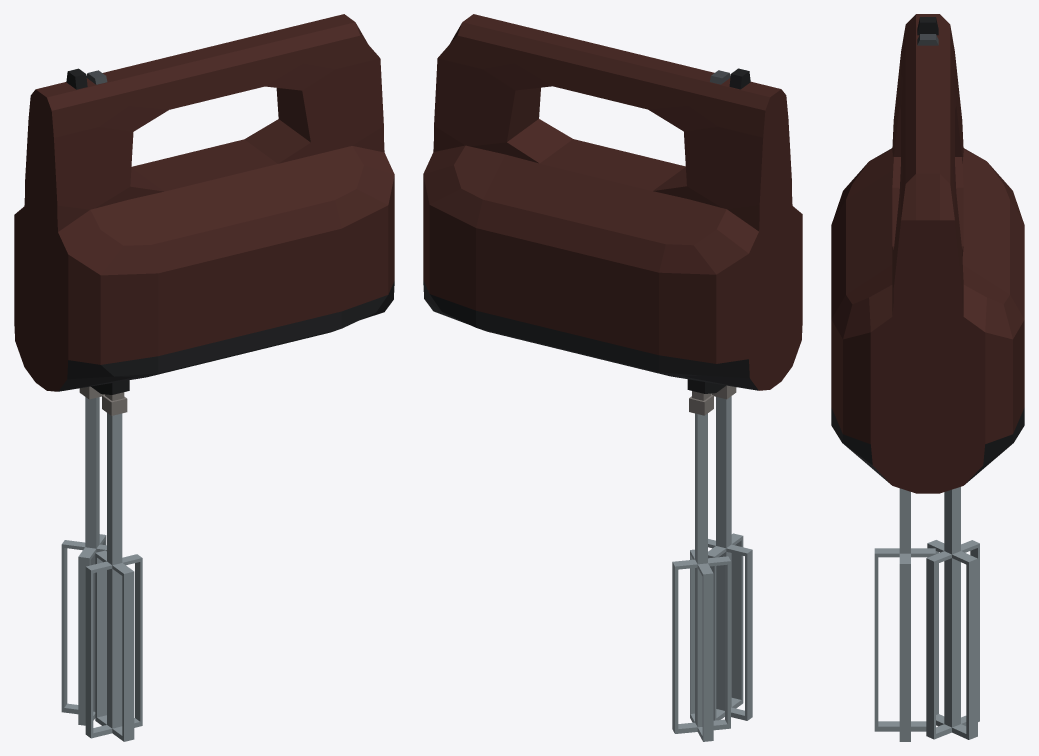
File: electricmixers_01_C.gltf
3 renders of one model, left to right at view 1: azimuth 30°, elevation 25°; view 2: azimuth 150°, elevation 25°; view 3: azimuth 270°, elevation 25°, orthographic. The views are drawn at different scales.
Parts seen in each view (by area): view 1: electricmixers_01_C, mixerdevice_01_C, mixerdevice_02_C; view 2: electricmixers_01_C, mixerdevice_02_C, mixerdevice_01_C; view 3: electricmixers_01_C, mixerdevice_02_C, mixerdevice_01_C, buttonforelectricmixers_02_C.
Boxes of the visible parts, x1=… form: electricmixers_01_C: x1=14, y1=14, x2=394, y2=415; mixerdevice_01_C: x1=85, y1=413, x2=142, y2=741; mixerdevice_02_C: x1=61, y1=397, x2=106, y2=725; electricmixers_01_C: x1=423, y1=14, x2=802, y2=415; mixerdevice_02_C: x1=672, y1=413, x2=730, y2=741; mixerdevice_01_C: x1=708, y1=396, x2=752, y2=720; electricmixers_01_C: x1=831, y1=14, x2=1024, y2=493; mixerdevice_02_C: x1=926, y1=487, x2=979, y2=739; mixerdevice_01_C: x1=874, y1=488, x2=935, y2=741; buttonforelectricmixers_02_C: x1=917, y1=17, x2=938, y2=35.
Size of the model in its own units: 0.2861 by 0.5494 by 0.1384.
Materials: 1 (1 with a texture image).
